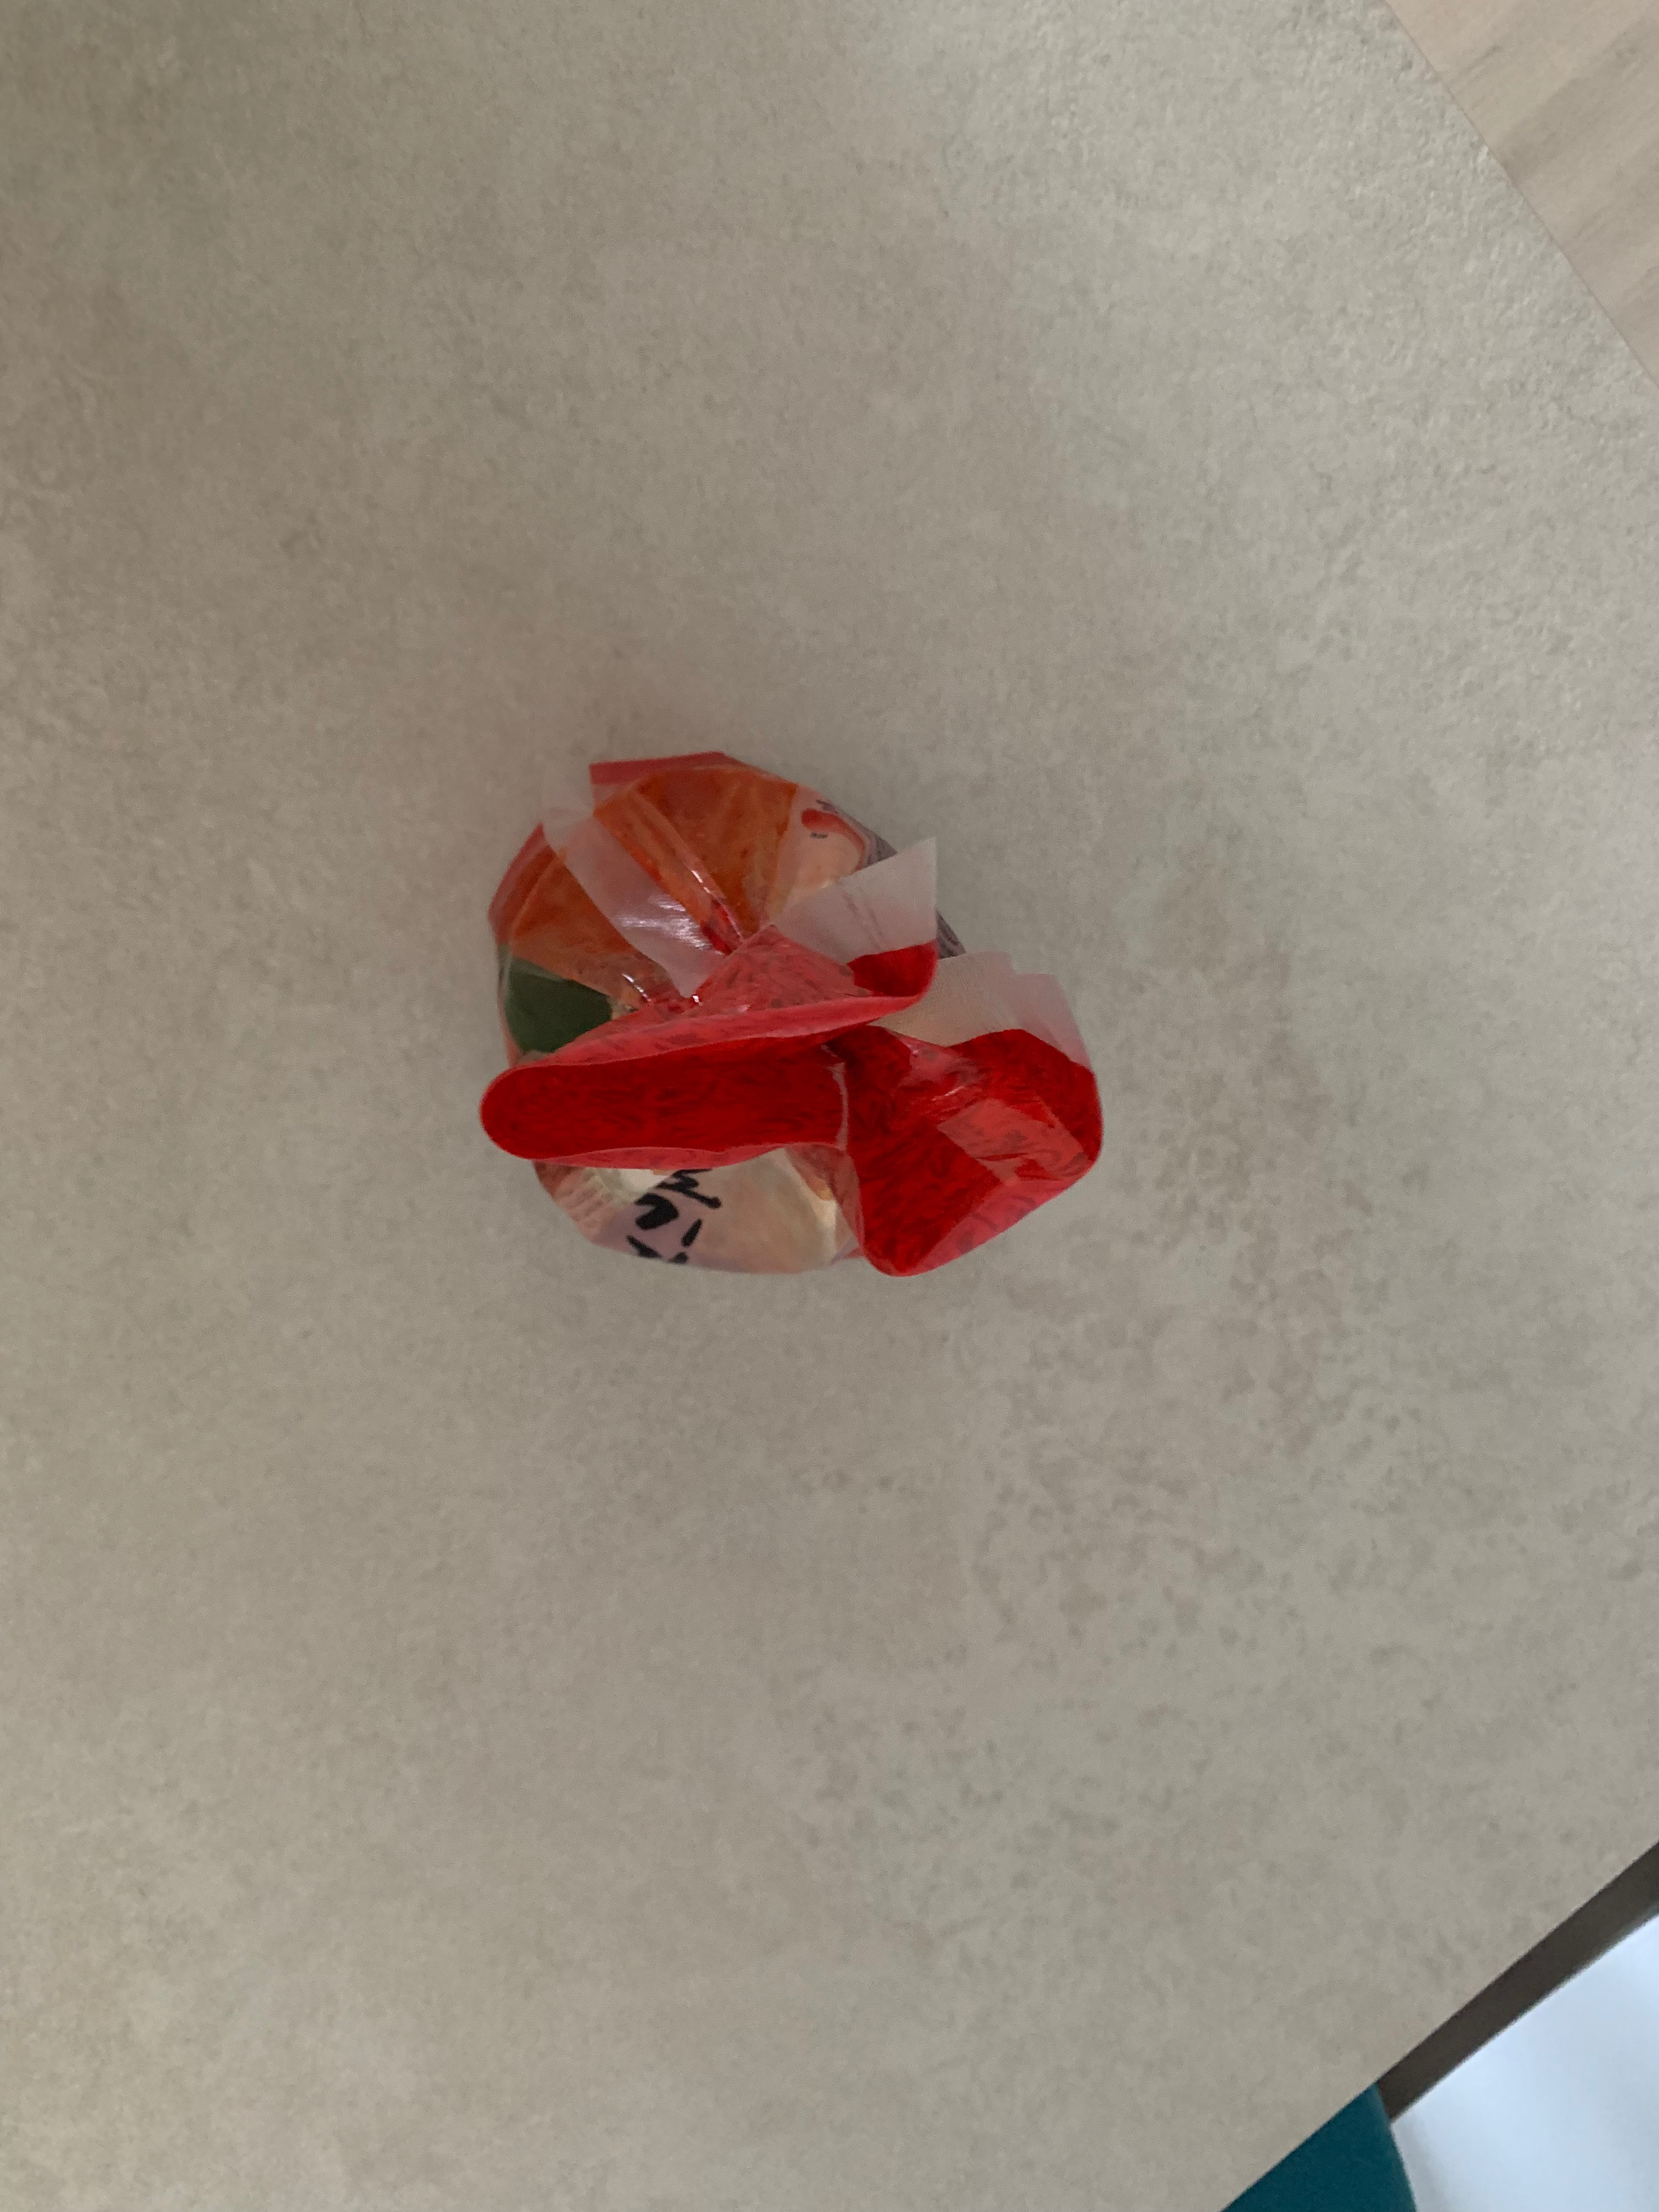kimchi: (481, 747, 1110, 1282)
